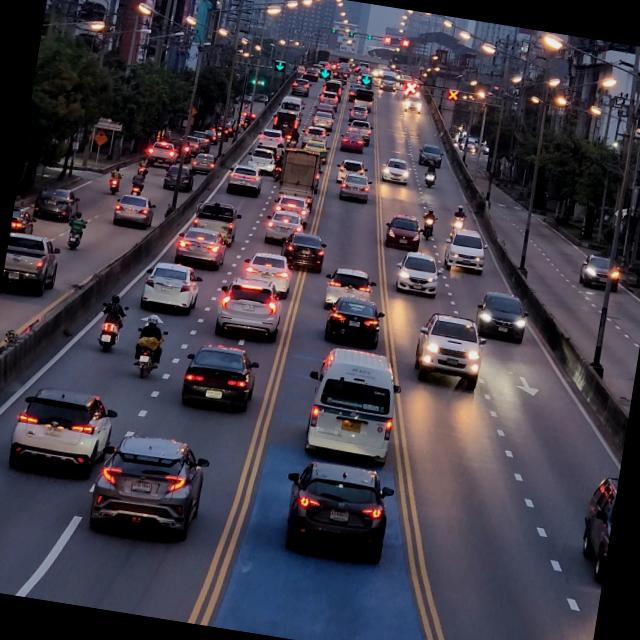Vehicle: (84, 422, 218, 560), (296, 342, 412, 468), (276, 457, 401, 572), (13, 380, 117, 478), (408, 308, 492, 392), (211, 270, 295, 344), (572, 472, 620, 590), (0, 228, 64, 300), (143, 258, 208, 320), (474, 286, 535, 348), (324, 295, 391, 349), (170, 226, 231, 276), (395, 250, 440, 298), (110, 192, 160, 231)
